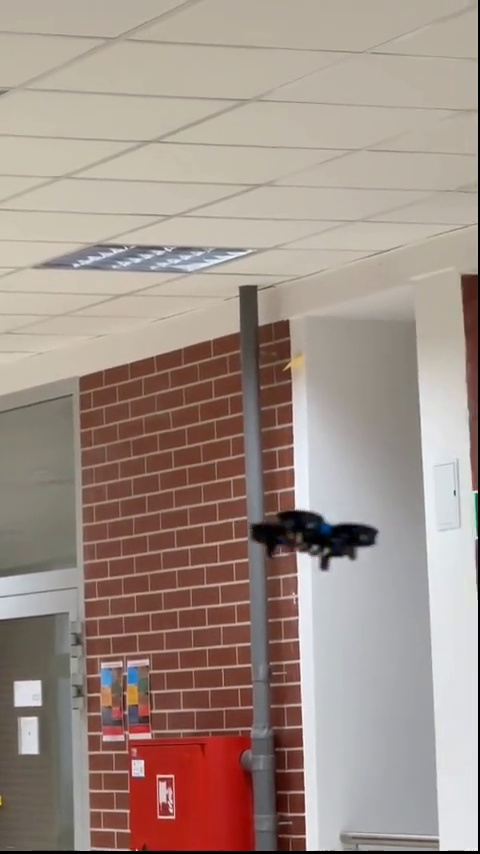drone: (251, 507, 377, 574)
